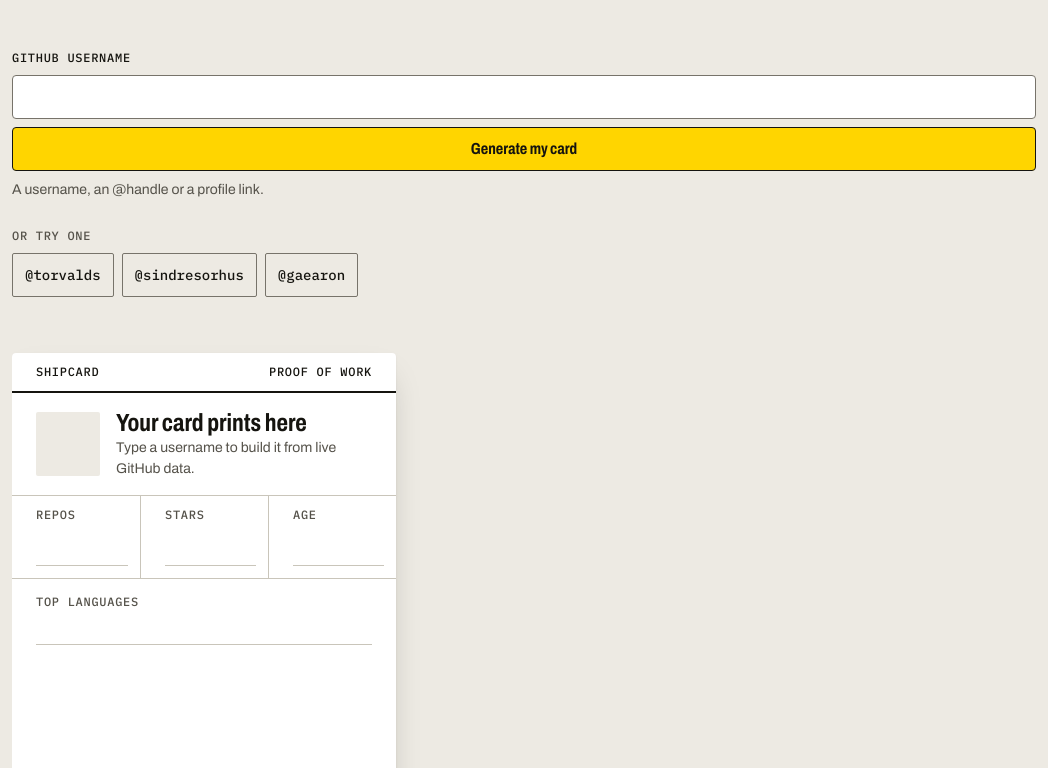
Test: a successful lookup › the region is busy and names what is loading while the request is in flight
This screenshot has width=1048, height=768.
Type "torvalds" into the field labelled "GitHub username" at {"x": 524, "y": 97}, box [12,75,1036,119]
Then press Enter
(page scrolled)
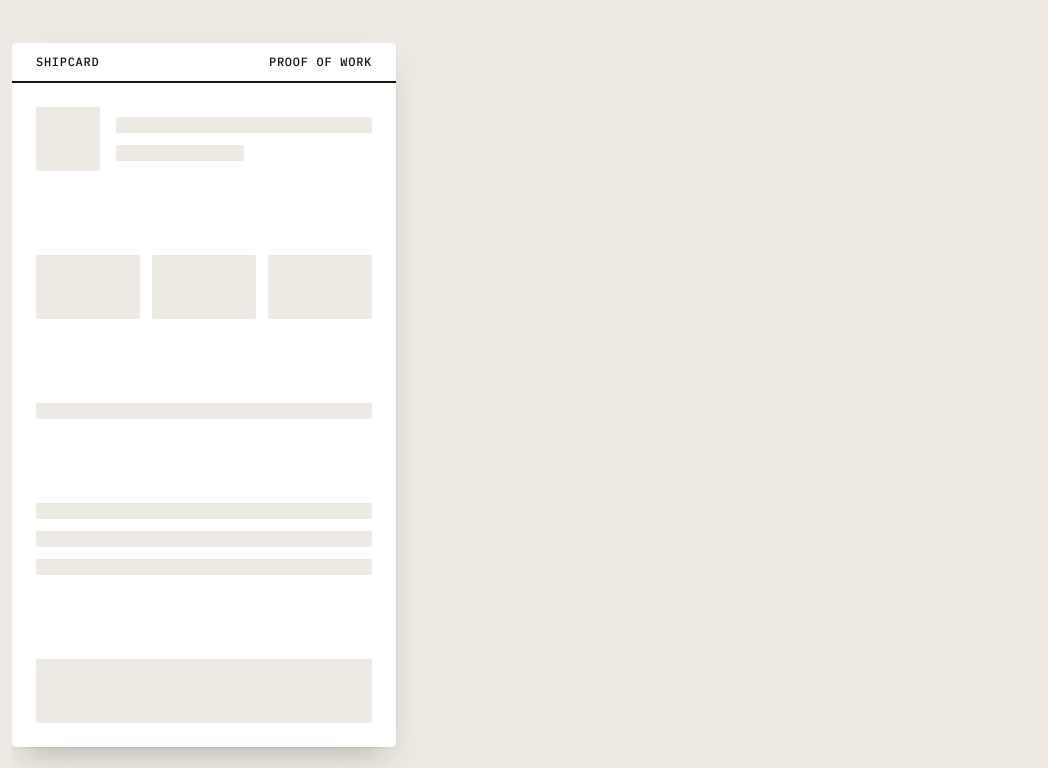
Expected: the element showing "Shipcard Proof of work" has attribute aria-busy="true", [12,43,396,747]
